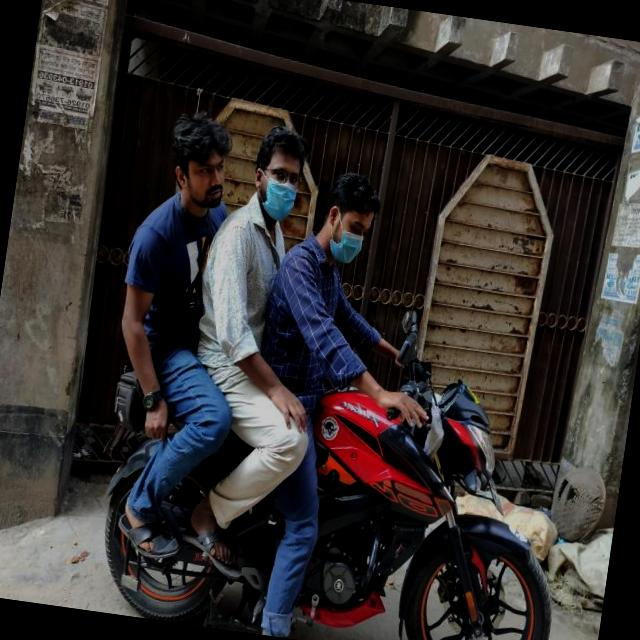motorcycle: (71, 257, 600, 640)
person: (221, 157, 478, 640), (84, 100, 294, 566), (162, 110, 353, 590)
rider_region: (59, 96, 614, 640)
